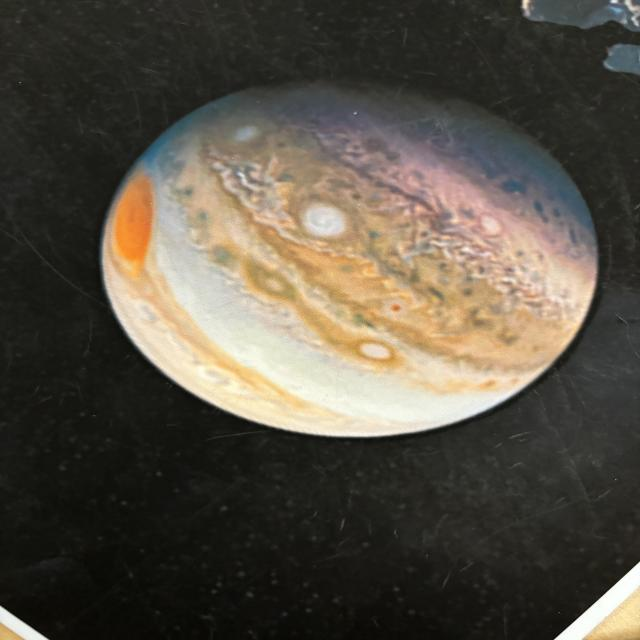Jupiter: (96, 69, 603, 450)
